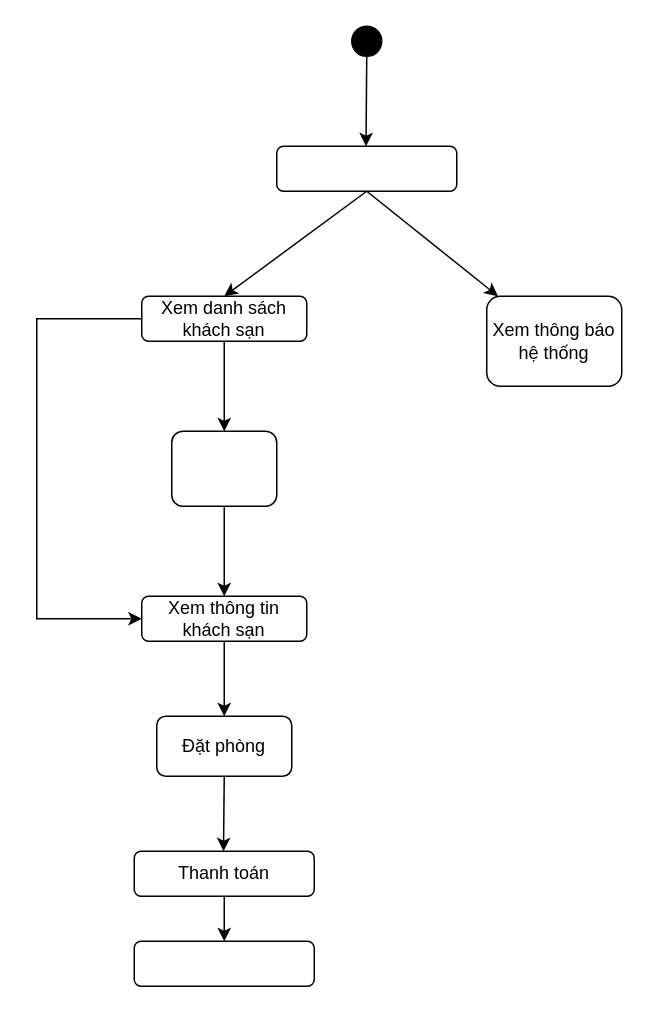
Image size: 648x1013. Some labels were removed from this diagram. Here are the shapes that lost their labels. From the top down, the box of each, then its label:
(275, 145, 457, 191): Đăng nhập
(170, 430, 277, 506): Tìm kiếm khách sạn
(133, 940, 314, 986): Đánh giá
